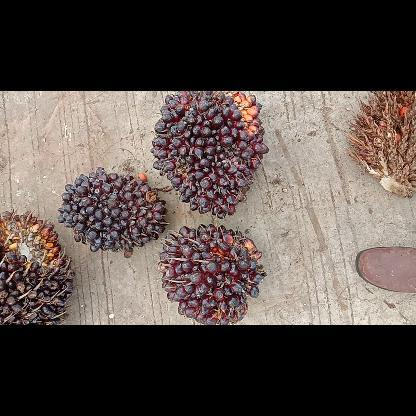TBS mentah: (146, 90, 270, 220), (156, 220, 270, 324), (56, 164, 170, 262)
